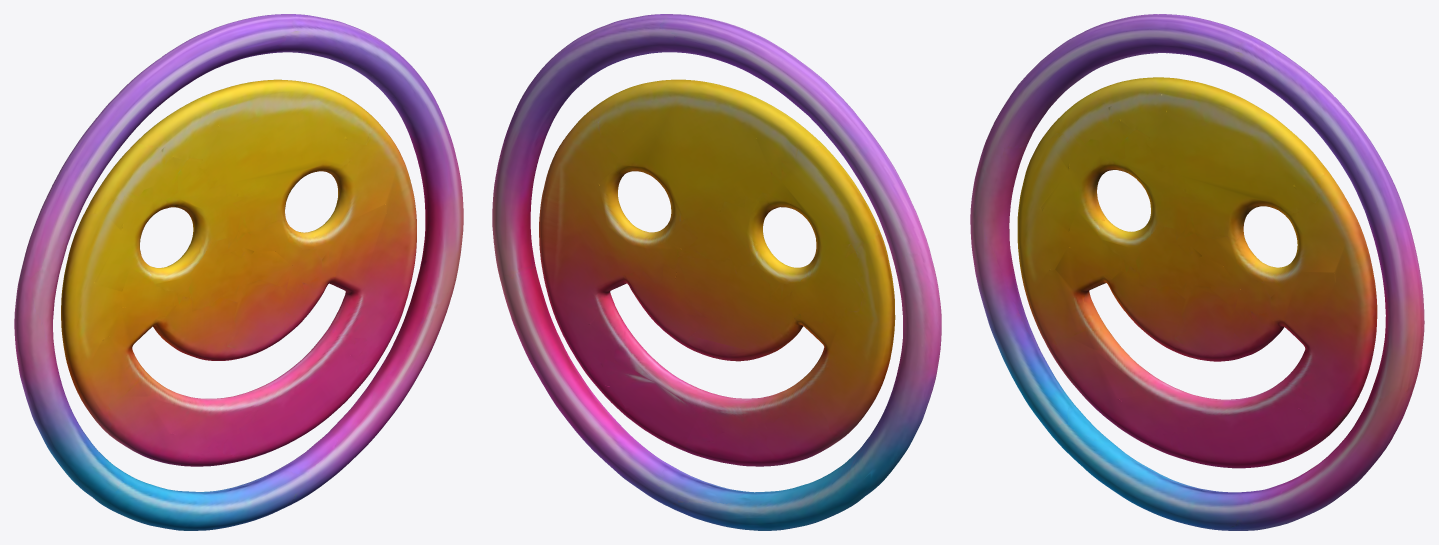
File: smile__main__r2__p1.glb
3 views of the same model, side by side, from view 1: azimuth 30°, elevation 25°; view 2: azimuth 150°, elevation 25°; view 3: azimuth 330°, elevation 25° (orthographic).
Visible parts, largest first — view 1: model; view 2: model; view 3: model.
Part boxes in pixels (<box>): model: <box>14,14,463,530</box>; model: <box>492,14,941,530</box>; model: <box>970,14,1424,530</box>.
Size of the model in its own units: 1.63 by 1.75 by 0.1061.
Materials: 1 (1 with a texture image).
